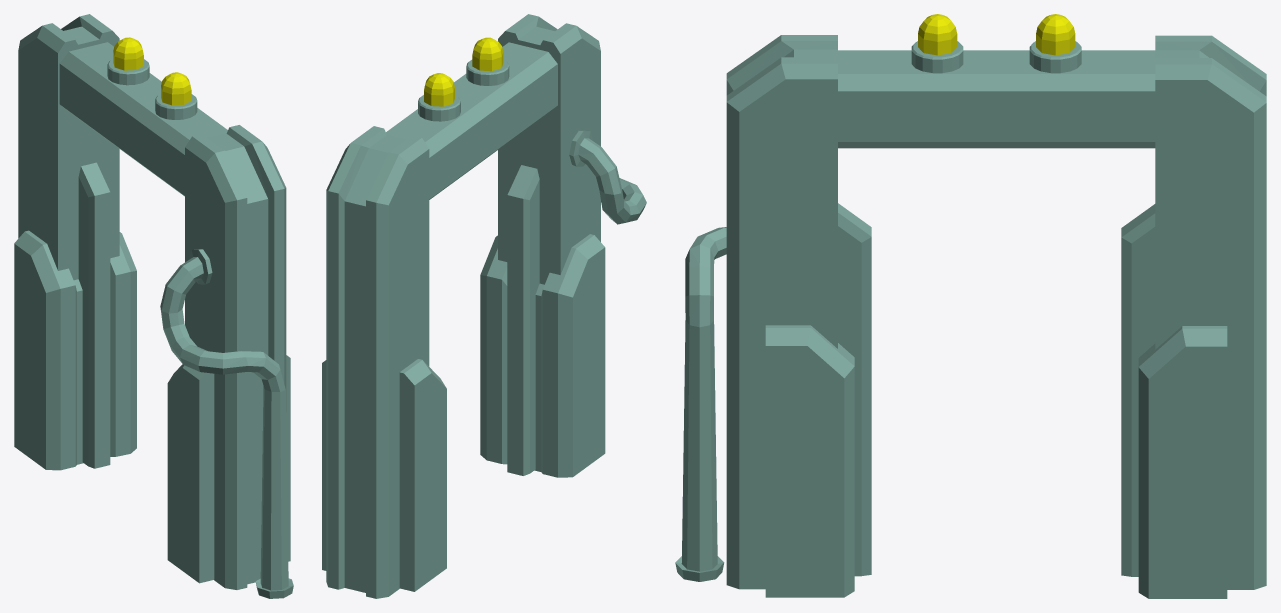
File: ATLAS_LV_GATE.fbx
3 views of the same model, side by side, from view 1: azimuth 30°, elevation 25°; view 2: azimuth 150°, elevation 25°; view 3: azimuth 270°, elevation 25° (orthographic). The views are drawn at different scales.
Visible parts, largest first — view 1: LV_GATE; view 2: LV_GATE; view 3: LV_GATE.
Part boxes in pixels (x1=…): LV_GATE: x1=14, y1=14, x2=293, y2=598; LV_GATE: x1=322, y1=14, x2=646, y2=598; LV_GATE: x1=675, y1=14, x2=1266, y2=598.
Bounding box in the file's own units: 65.55 × 236 × 228.
